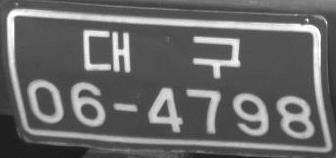0: (25, 77, 65, 123)
4: (148, 86, 183, 131)
6: (69, 80, 107, 128)
7: (185, 87, 221, 134)
8: (275, 95, 315, 139)
9: (231, 91, 269, 135)
대구_D: (82, 28, 240, 79)
